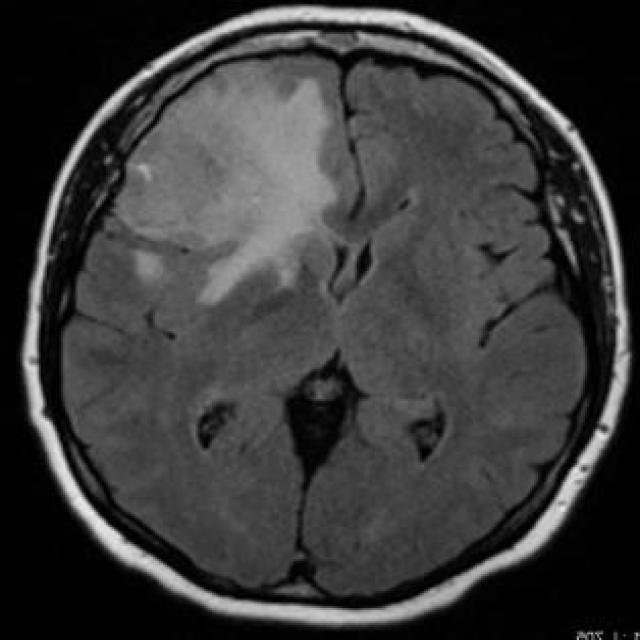Tumor-Cell: (123, 84, 390, 306)
